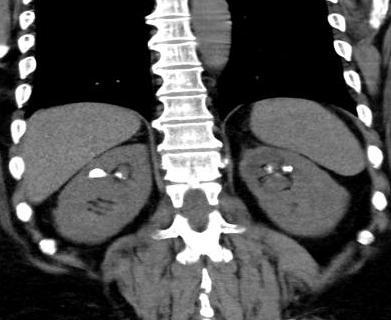Tas_Var: (89, 168, 110, 180), (282, 165, 295, 173), (266, 164, 274, 174), (115, 170, 123, 178), (121, 177, 128, 180)
